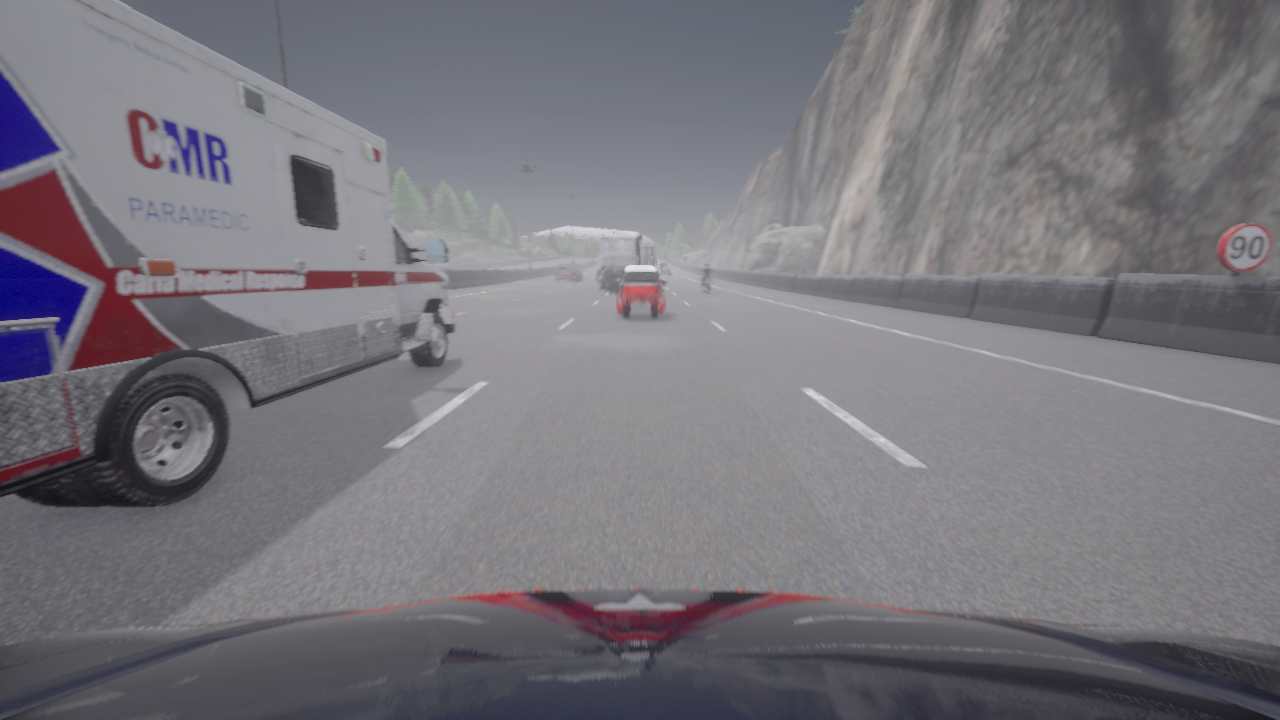cyclist: (0, 588, 1279, 719), (594, 234, 658, 291), (615, 266, 666, 318), (555, 263, 581, 280), (643, 245, 655, 267), (702, 273, 712, 293), (659, 264, 670, 273)
